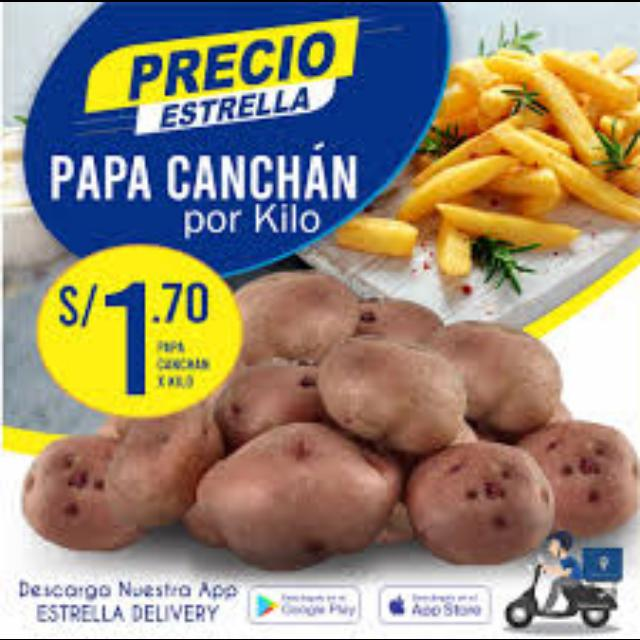Diseased-fungal potato: (181, 424, 403, 574), (312, 333, 470, 453), (409, 442, 555, 566)
